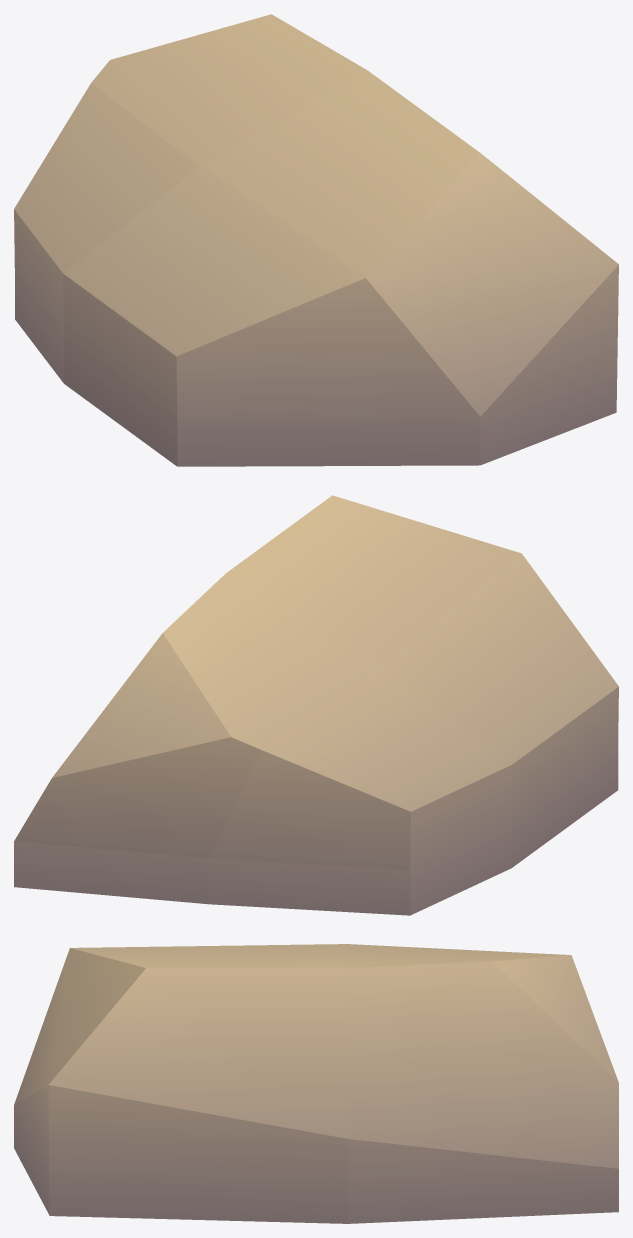
Rendered from Rock3.glb.
The picture shows the model from 3 angles, top to bottom: view 1: azimuth 30°, elevation 25°; view 2: azimuth 150°, elevation 25°; view 3: azimuth 270°, elevation 25°; orthographic projection. The views are drawn at different scales.
Visible parts, largest first — view 1: Rock3; view 2: Rock3; view 3: Rock3.
Boxes of the visible parts, x1,y1,x2,y2 form: Rock3: (14, 14, 618, 466); Rock3: (14, 495, 618, 915); Rock3: (14, 944, 618, 1223).
Size of the model in its own units: 1.04 by 0.5898 by 1.52.
Materials: 1 (1 with a texture image).
